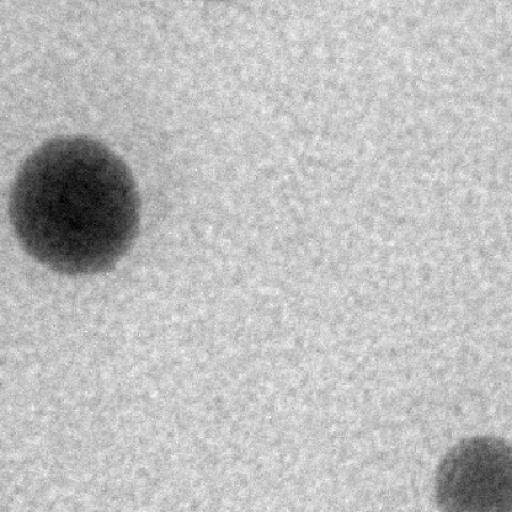Nanoparticles: (5, 133, 146, 276), (435, 436, 511, 510)
